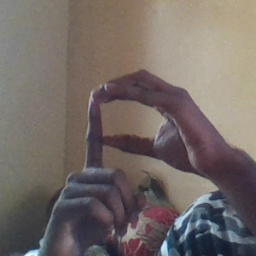P: (69, 65, 211, 213)
